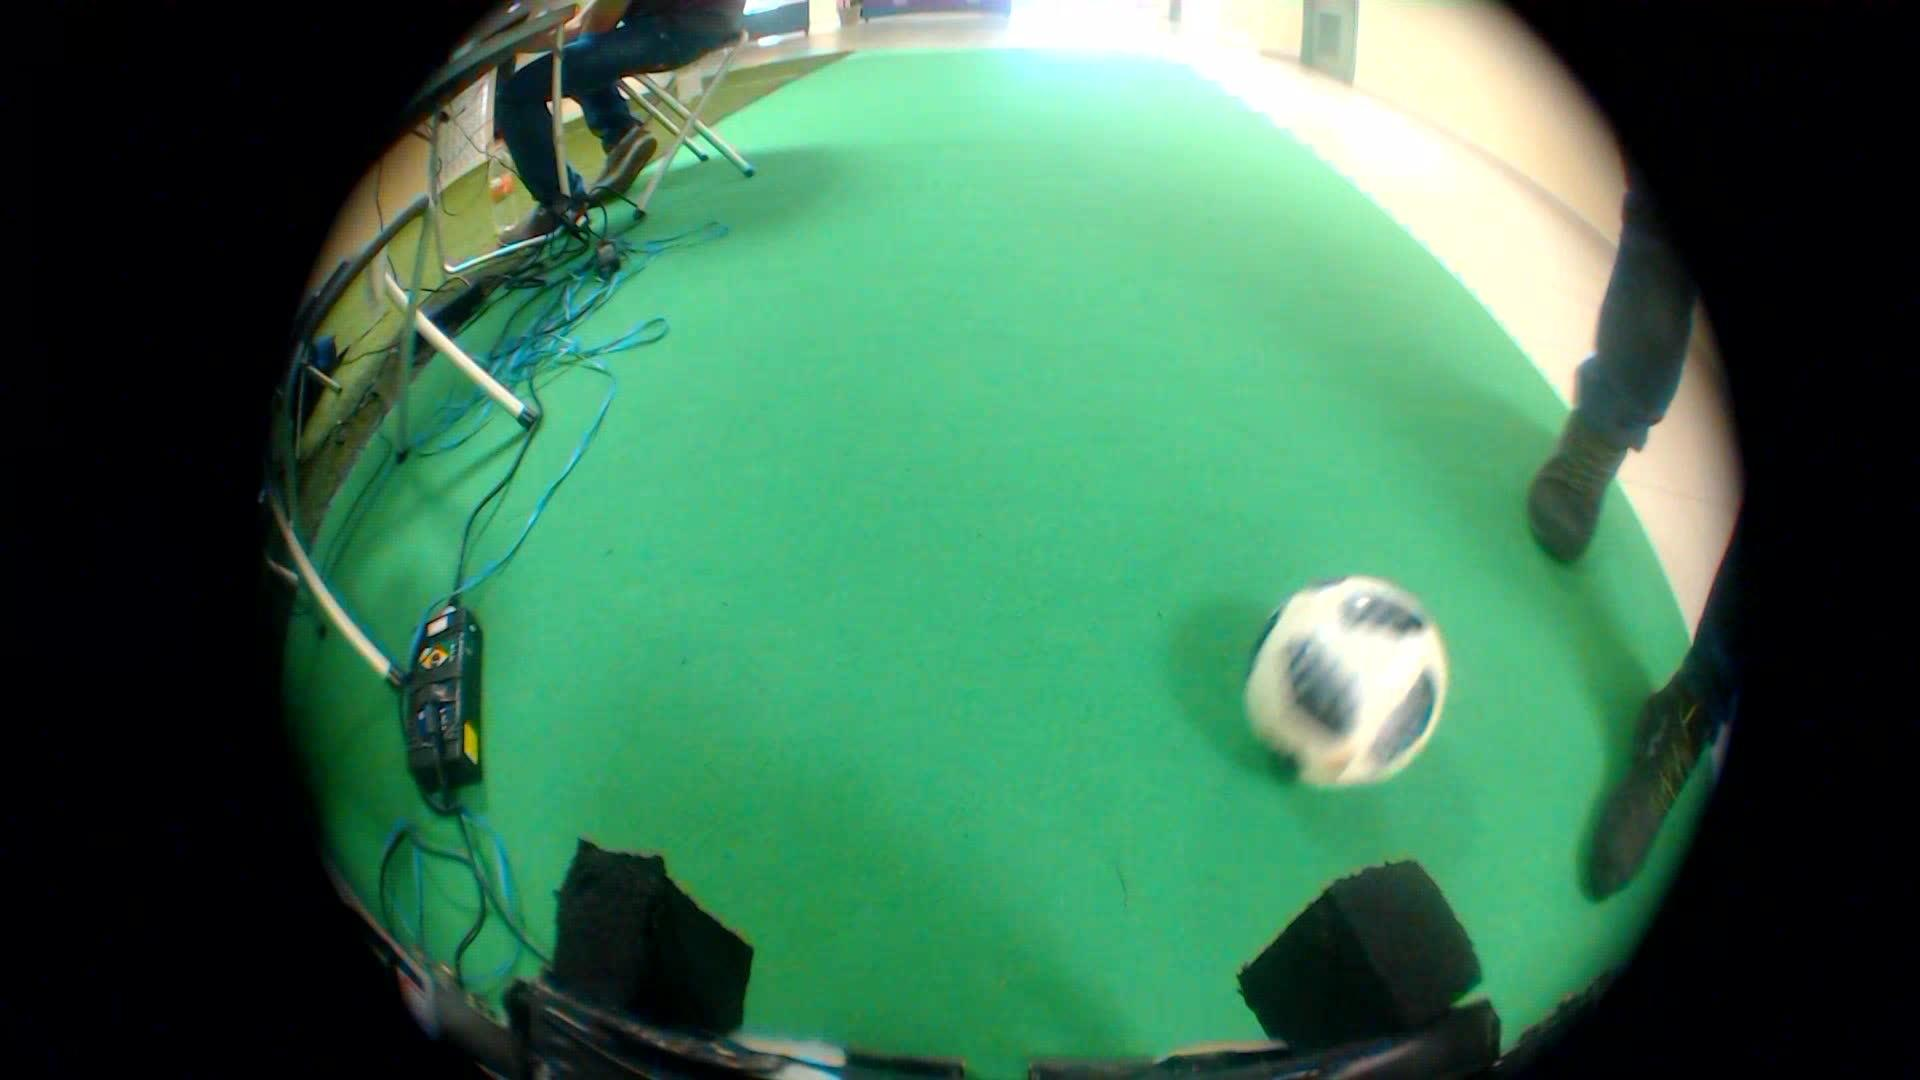ball: (1207, 550, 1478, 800)
